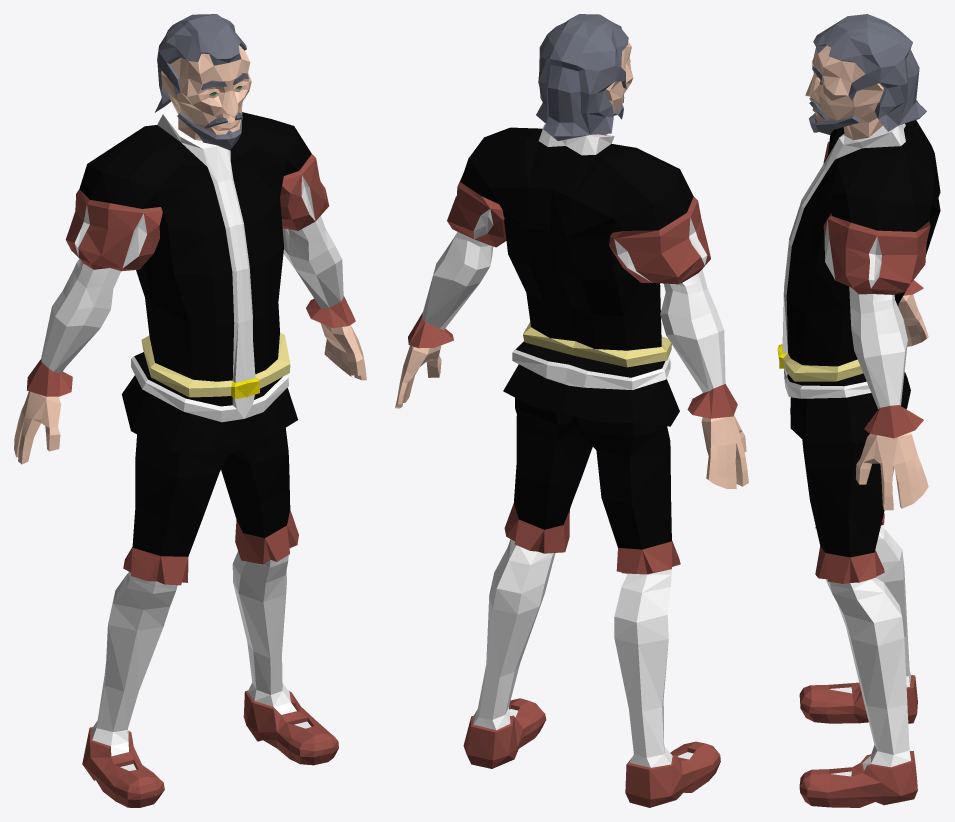
File: rich_citizens_3.glb
3 views of the same model, side by side, from view 1: azimuth 30°, elevation 25°; view 2: azimuth 150°, elevation 25°; view 3: azimuth 270°, elevation 25° (orthographic).
Parts seen in each view (by area): view 1: rich_citizens_3.001; view 2: rich_citizens_3.001; view 3: rich_citizens_3.001.
Boxes of the visible parts, x1,y1,x2,y2 form: rich_citizens_3.001: (14,14,366,807); rich_citizens_3.001: (395,14,748,807); rich_citizens_3.001: (777,14,940,807).
Size of the model in its own units: 0.8568 by 1.77 by 0.3549.
1 material, 1 textured.
